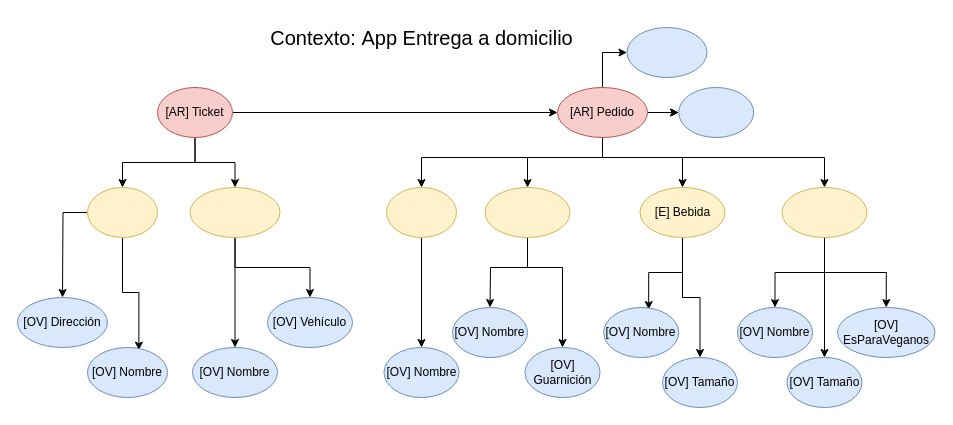
Some shapes in this 953 by 425 pixel diagram are drawn without their labels. The centre of each missing label's shape, as x and y in pixels:
[E] Cliente: (x=122, y=212)
[E] Entrada: (x=421, y=212)
[E] Plato principal: (x=527, y=212)
[E] Postre: (x=824, y=212)
[E] Repartidor: (x=234, y=212)
[OV] Estado: (x=666, y=52)
[OV] Precio: (x=716, y=112)
